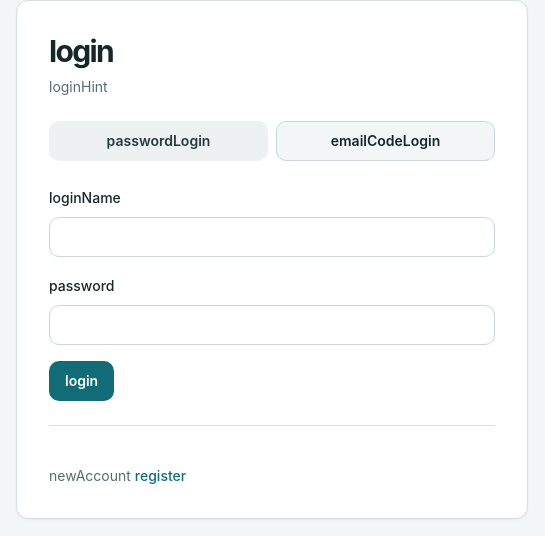
Test case: rejects non-Gmail addresses before requesting a code
The width and height of the screenshot is (545, 536).
Click the button "emailCodeLogin".
click(386, 141)  # box [276,121,495,161]
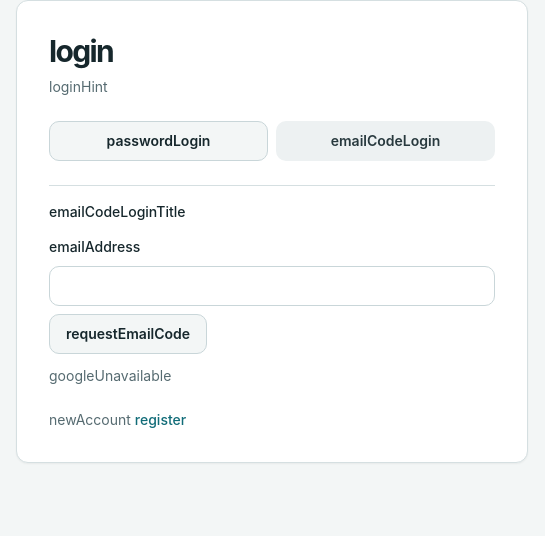
Type "user@yahoo.com" into the field labelled "emailAddress".
click(272, 286); type("user@yahoo.com")  # box [49,266,495,306]
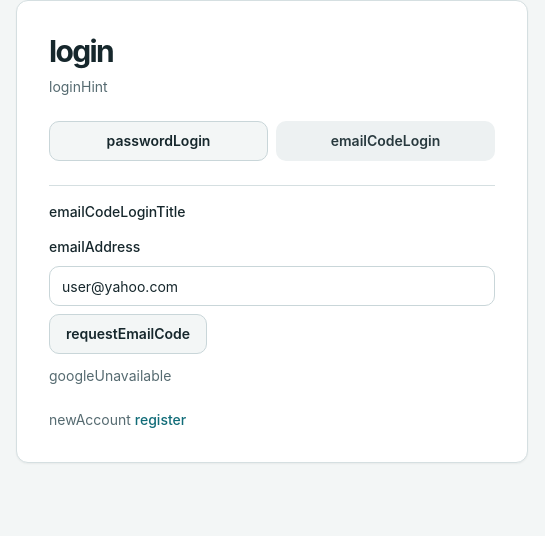
Click the button "requestEmailCode".
click(128, 334)  # box [49,314,207,354]
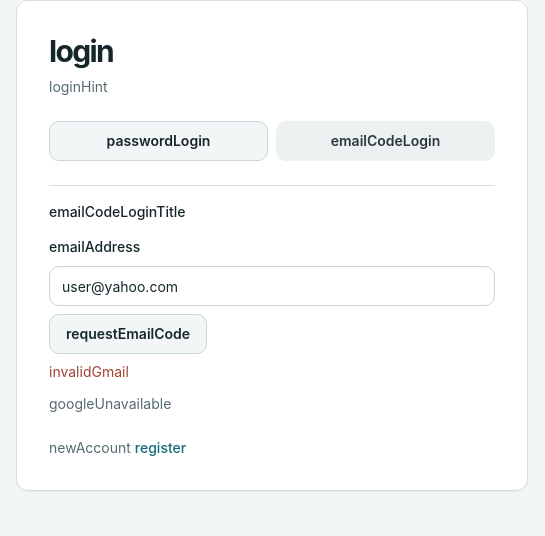
Result: the message reads "invalidGmail" at [49,363,129,380]
